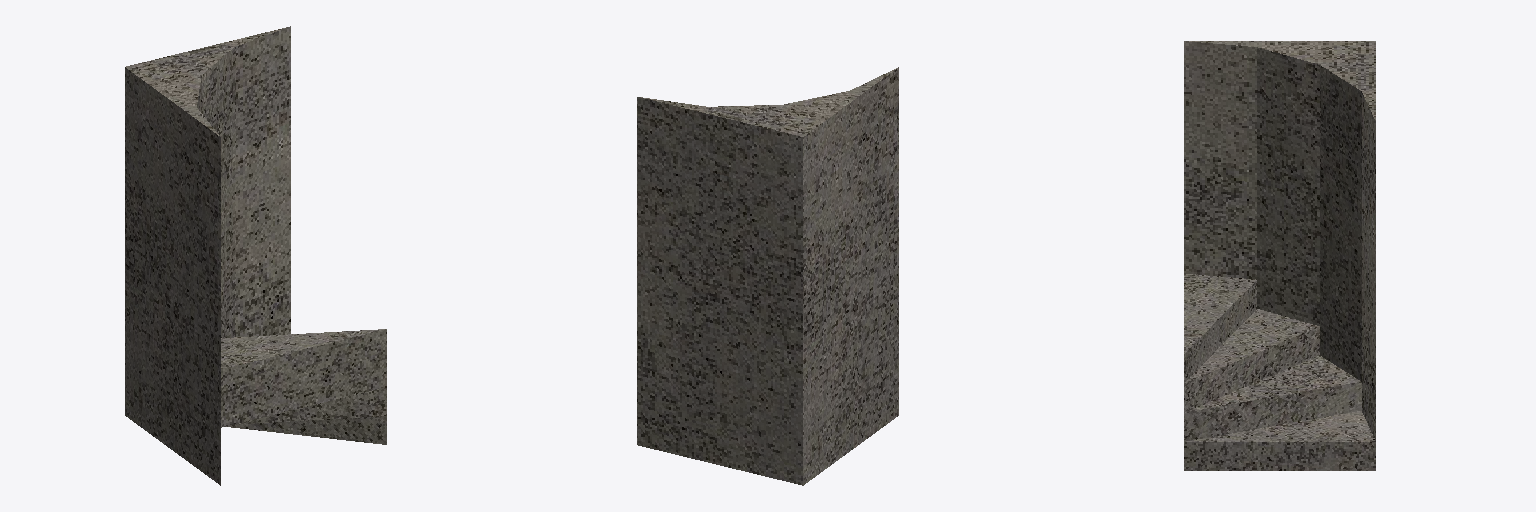
The picture shows the model from 3 angles: view 1: azimuth 30°, elevation 25°; view 2: azimuth 150°, elevation 25°; view 3: azimuth 270°, elevation 25°; orthographic projection.
Size of the model in its own units: 1 by 2 by 1.
Materials: 1 (1 with a texture image).